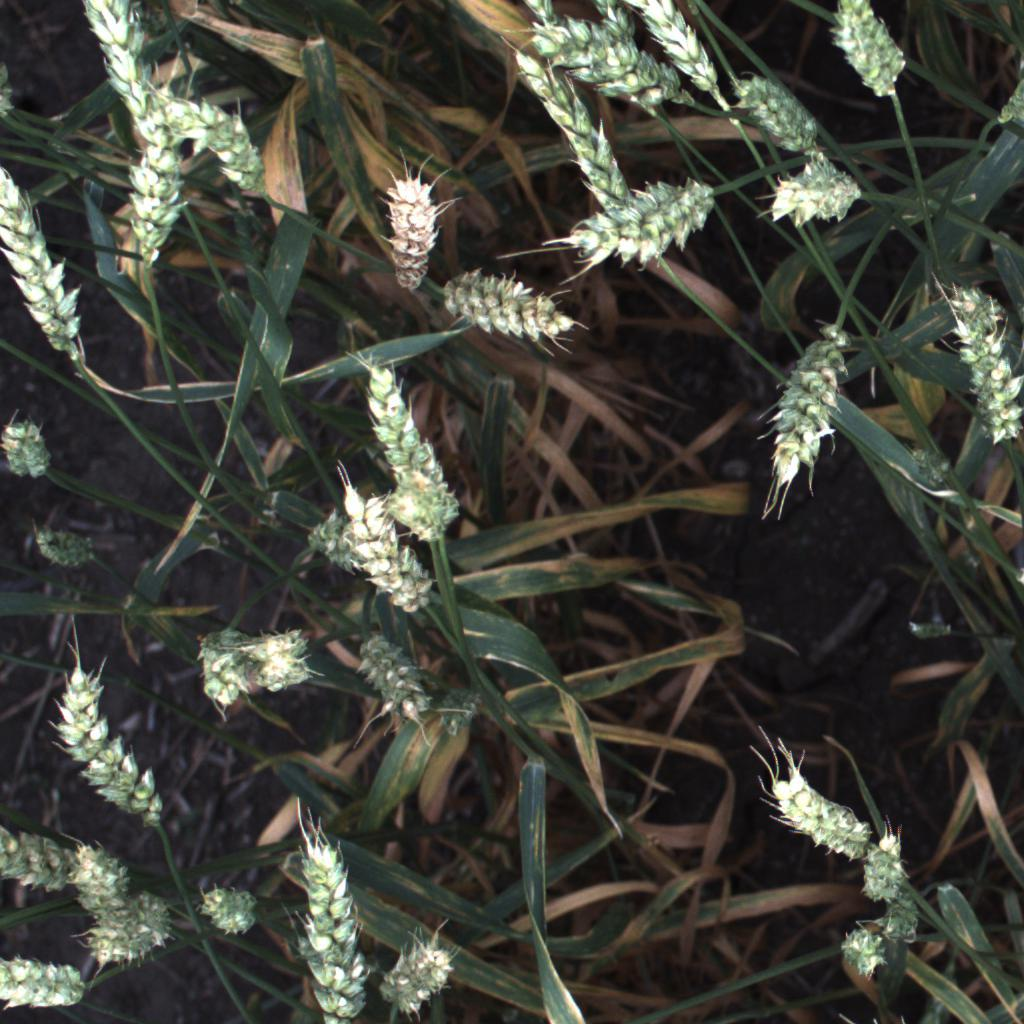0-0: (504, 41, 667, 256), (30, 663, 190, 823), (353, 357, 474, 546), (748, 316, 854, 500), (0, 164, 93, 370), (553, 171, 729, 271), (71, 0, 179, 152), (289, 830, 373, 1024), (339, 479, 449, 624), (519, 11, 659, 115), (432, 259, 584, 352), (752, 756, 879, 864), (114, 105, 200, 264), (367, 158, 454, 300), (630, 0, 734, 115), (939, 325, 1022, 469), (818, 0, 925, 104), (175, 94, 274, 202), (346, 628, 441, 735), (367, 929, 470, 1024), (66, 884, 183, 967), (727, 66, 829, 161), (758, 154, 873, 230), (0, 815, 100, 898), (0, 943, 99, 1022), (193, 614, 260, 716), (62, 842, 136, 917), (185, 879, 270, 942), (376, 482, 453, 551), (253, 621, 314, 700), (22, 519, 104, 577), (293, 502, 377, 558), (940, 281, 1021, 335), (861, 826, 912, 910), (583, 0, 645, 65), (820, 925, 892, 972), (870, 893, 931, 946), (23, 418, 64, 487), (0, 422, 29, 489), (175, 0, 271, 2), (960, 0, 1024, 2)
